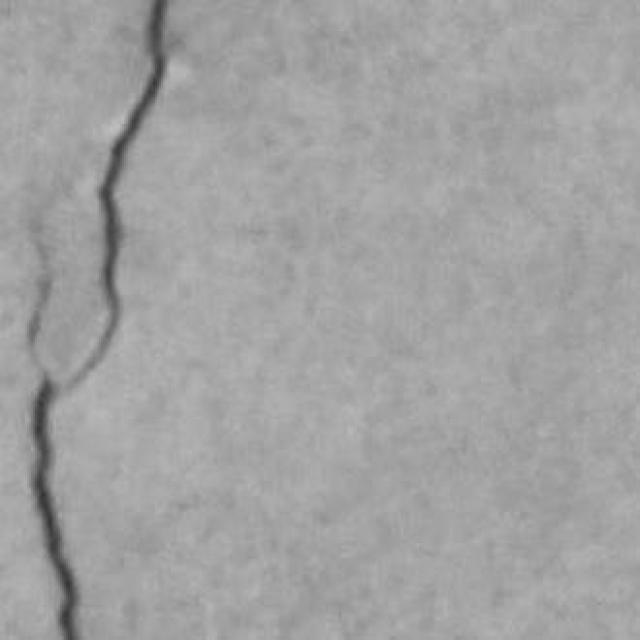crack: (32, 0, 168, 639), (66, 0, 168, 387), (32, 373, 79, 639), (32, 377, 79, 639)
